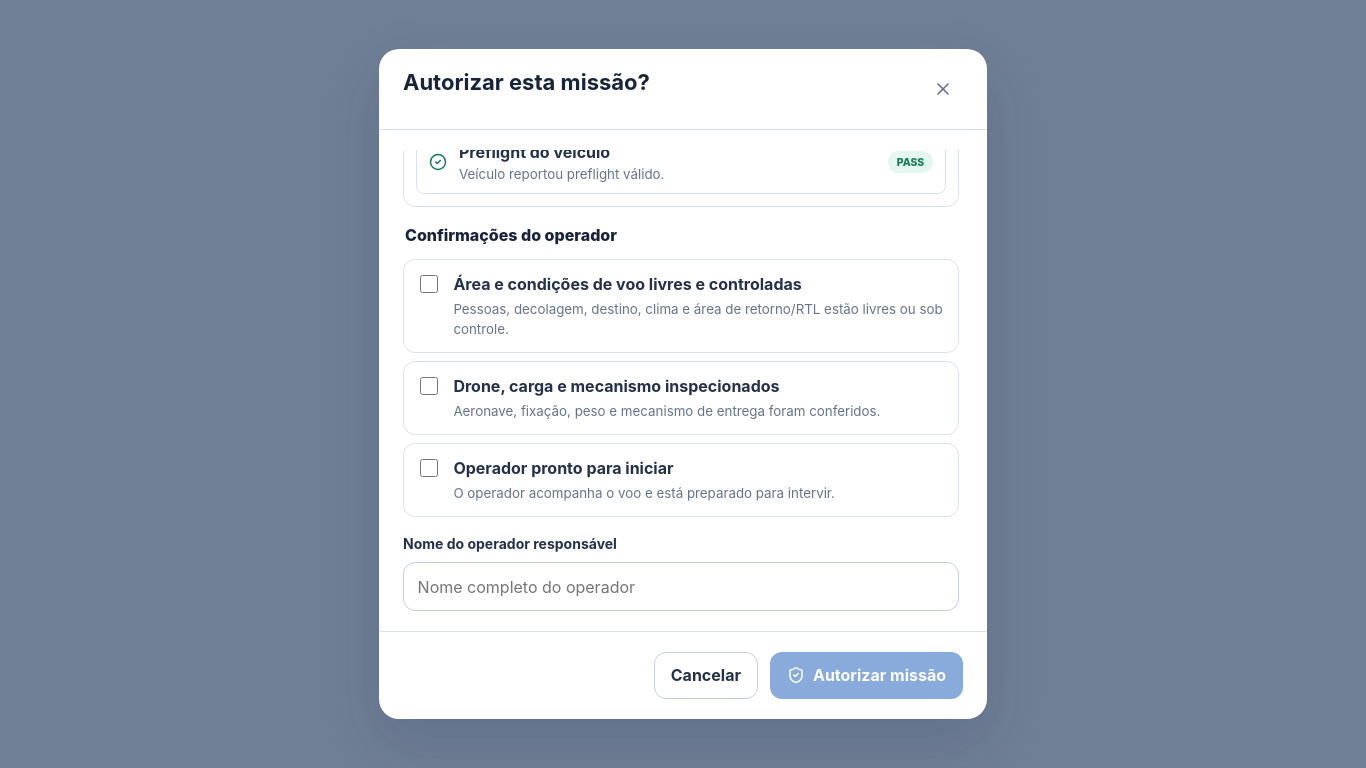
Test case: autorização de missão › mantém o botão bloqueado enquanto faltar uma confirmação humana
(page scrolled)
Type "Prof. Operador" into the field labelled "Nome do operador responsável" at (681, 587), box [403,562,959,611]
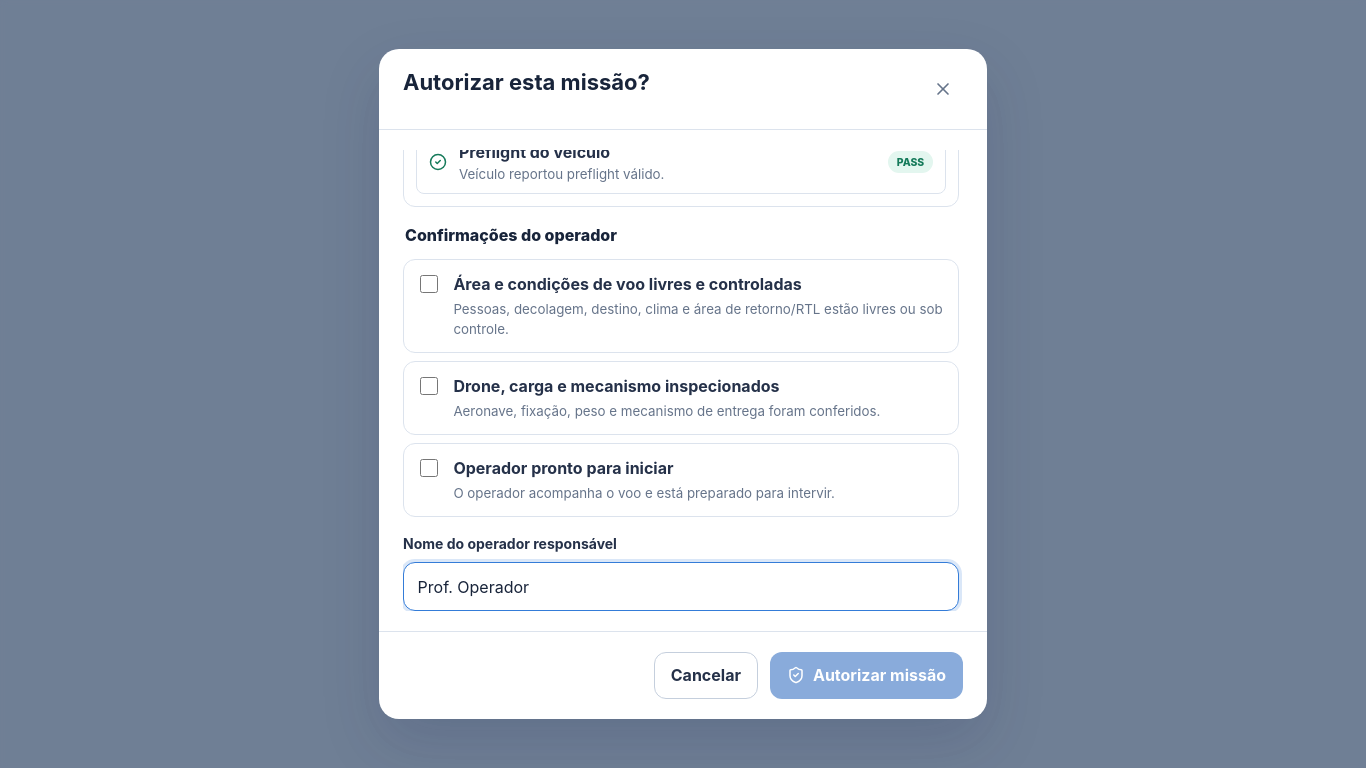
Click the checkbox labelled "Área e condições de voo livres e controladas" at (429, 284), box [420,275,438,293]
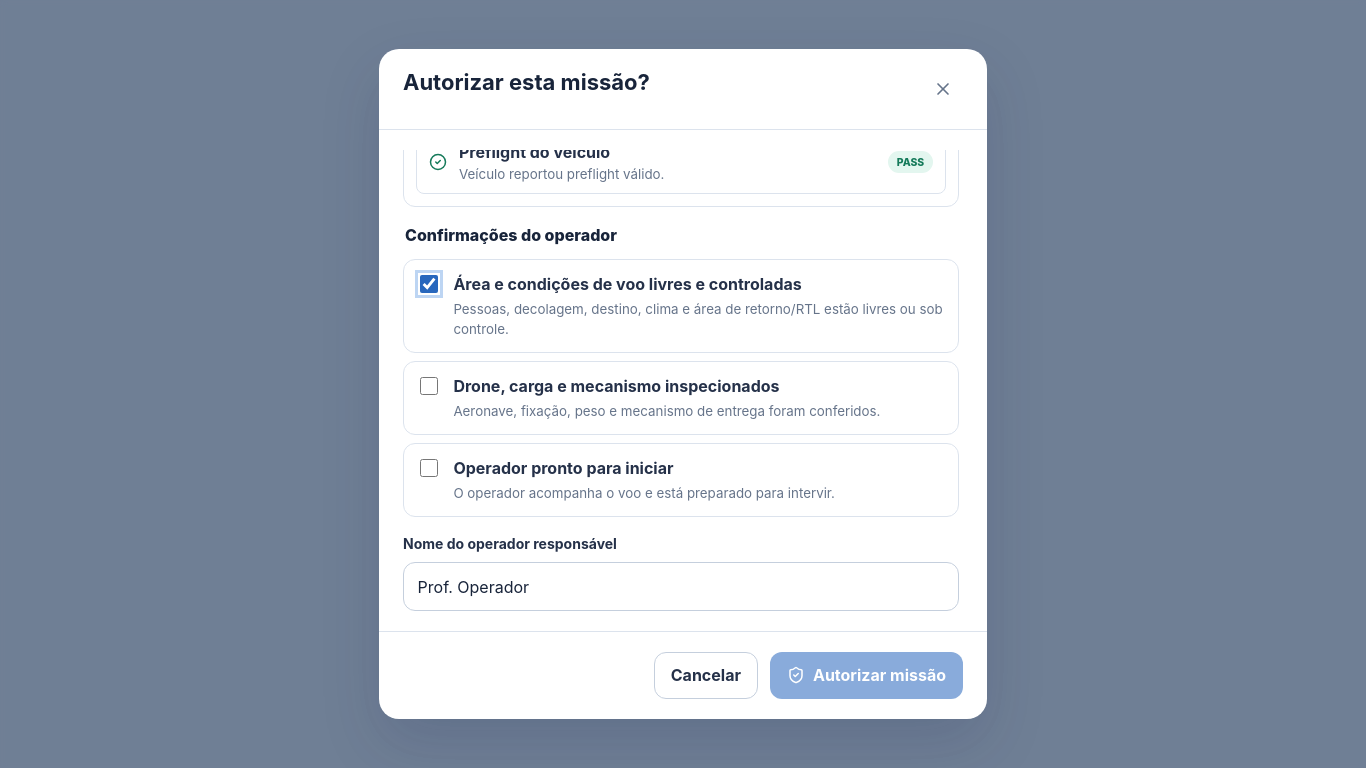
Click the checkbox labelled "Drone, carga e mecanismo inspecionados" at (429, 386), box [420,376,438,395]
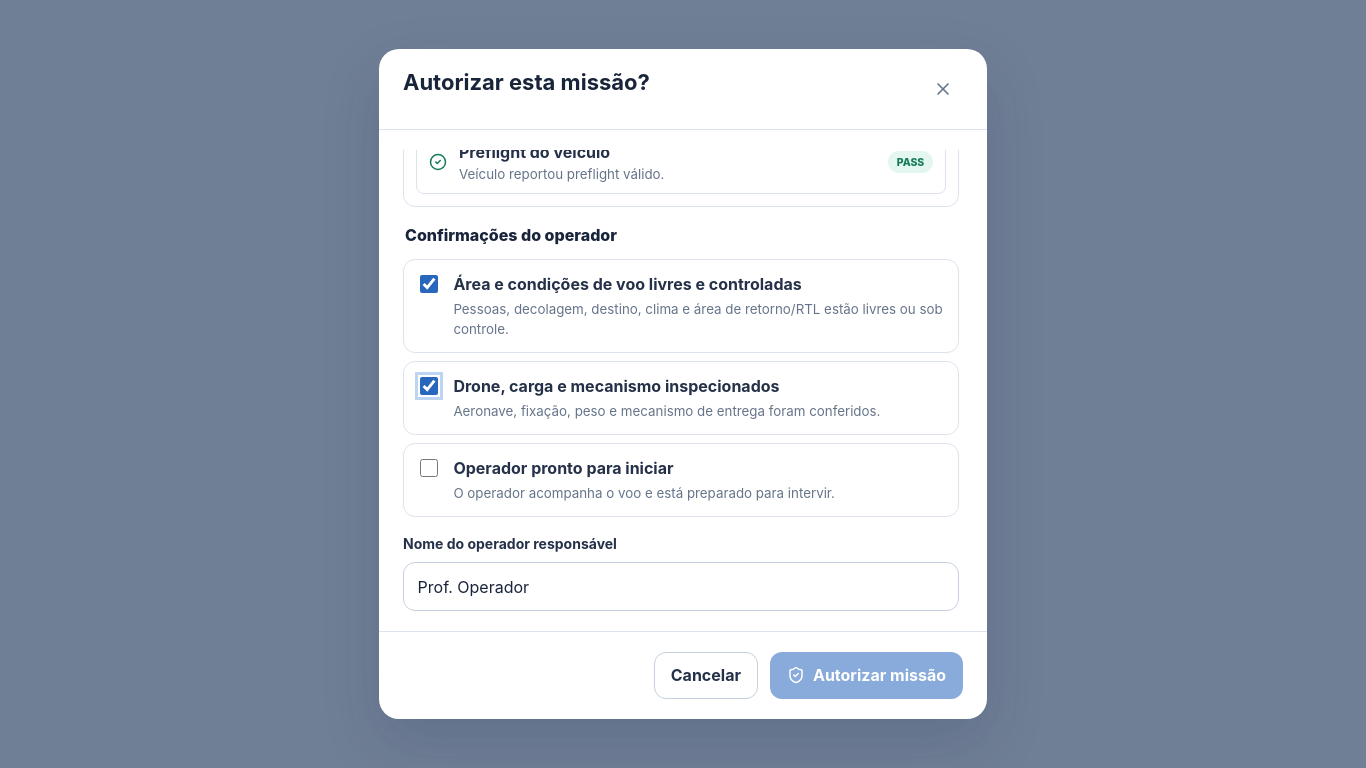
Check: the button "Autorizar missão" is disabled, box [770,652,963,699]
Click the checkbox labelled "Operador pronto para iniciar" at (429, 468), box [420,458,438,477]
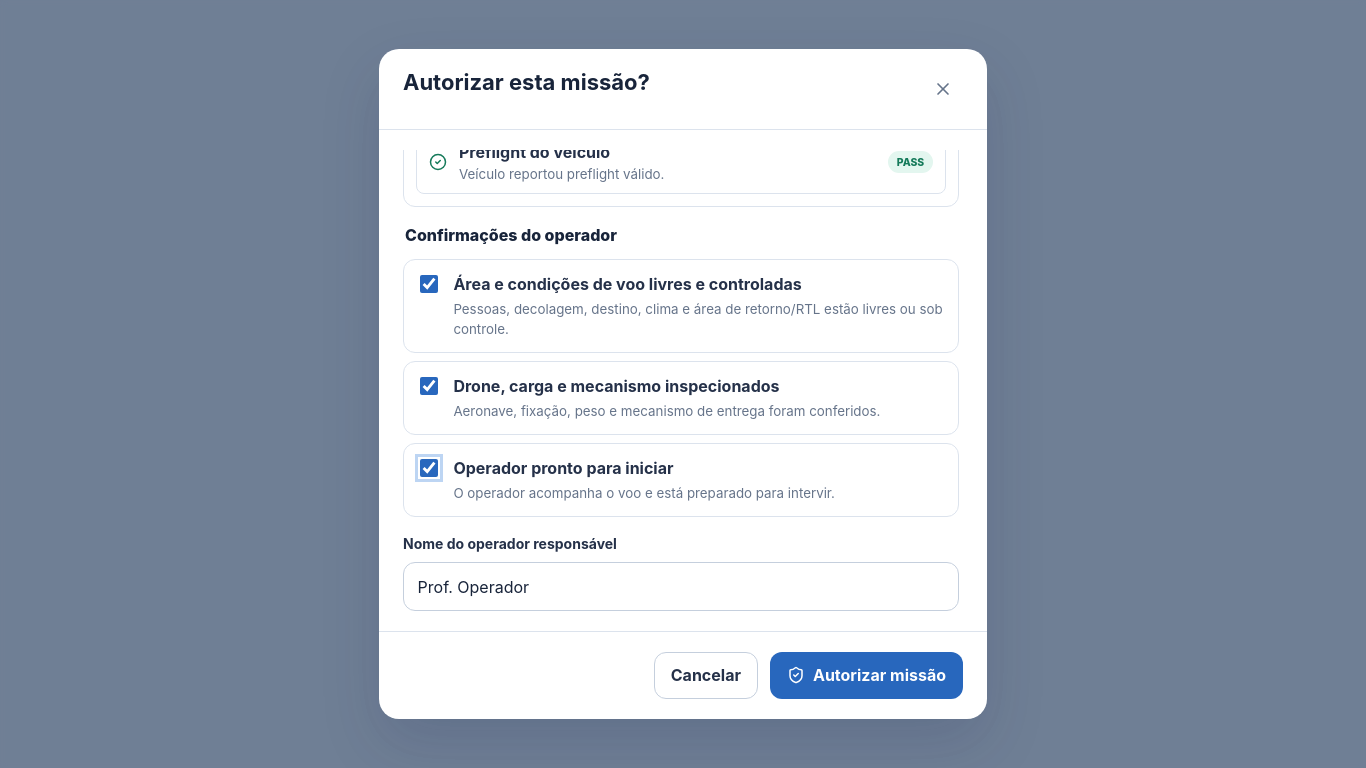
Check: the button "Autorizar missão" is enabled, box [770,652,963,699]
